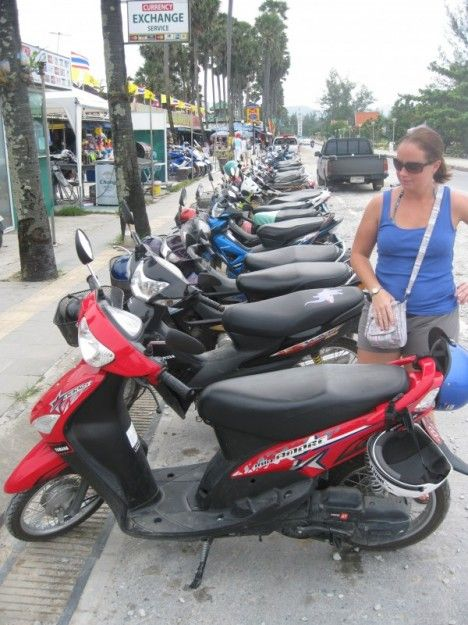bike: (4, 287, 447, 575)
box: (129, 233, 358, 363)
car: (317, 137, 388, 190)
person: (354, 132, 468, 363)
tree: (1, 2, 57, 283), (100, 1, 149, 244)
